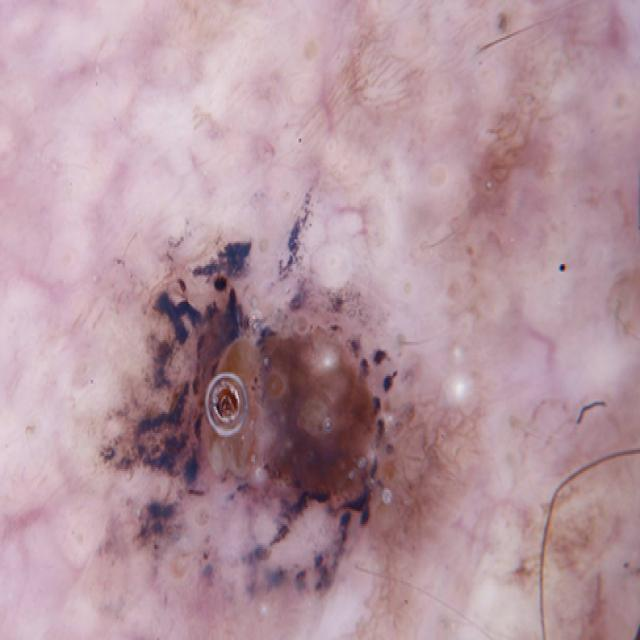Keratosis: (79, 187, 434, 610)
